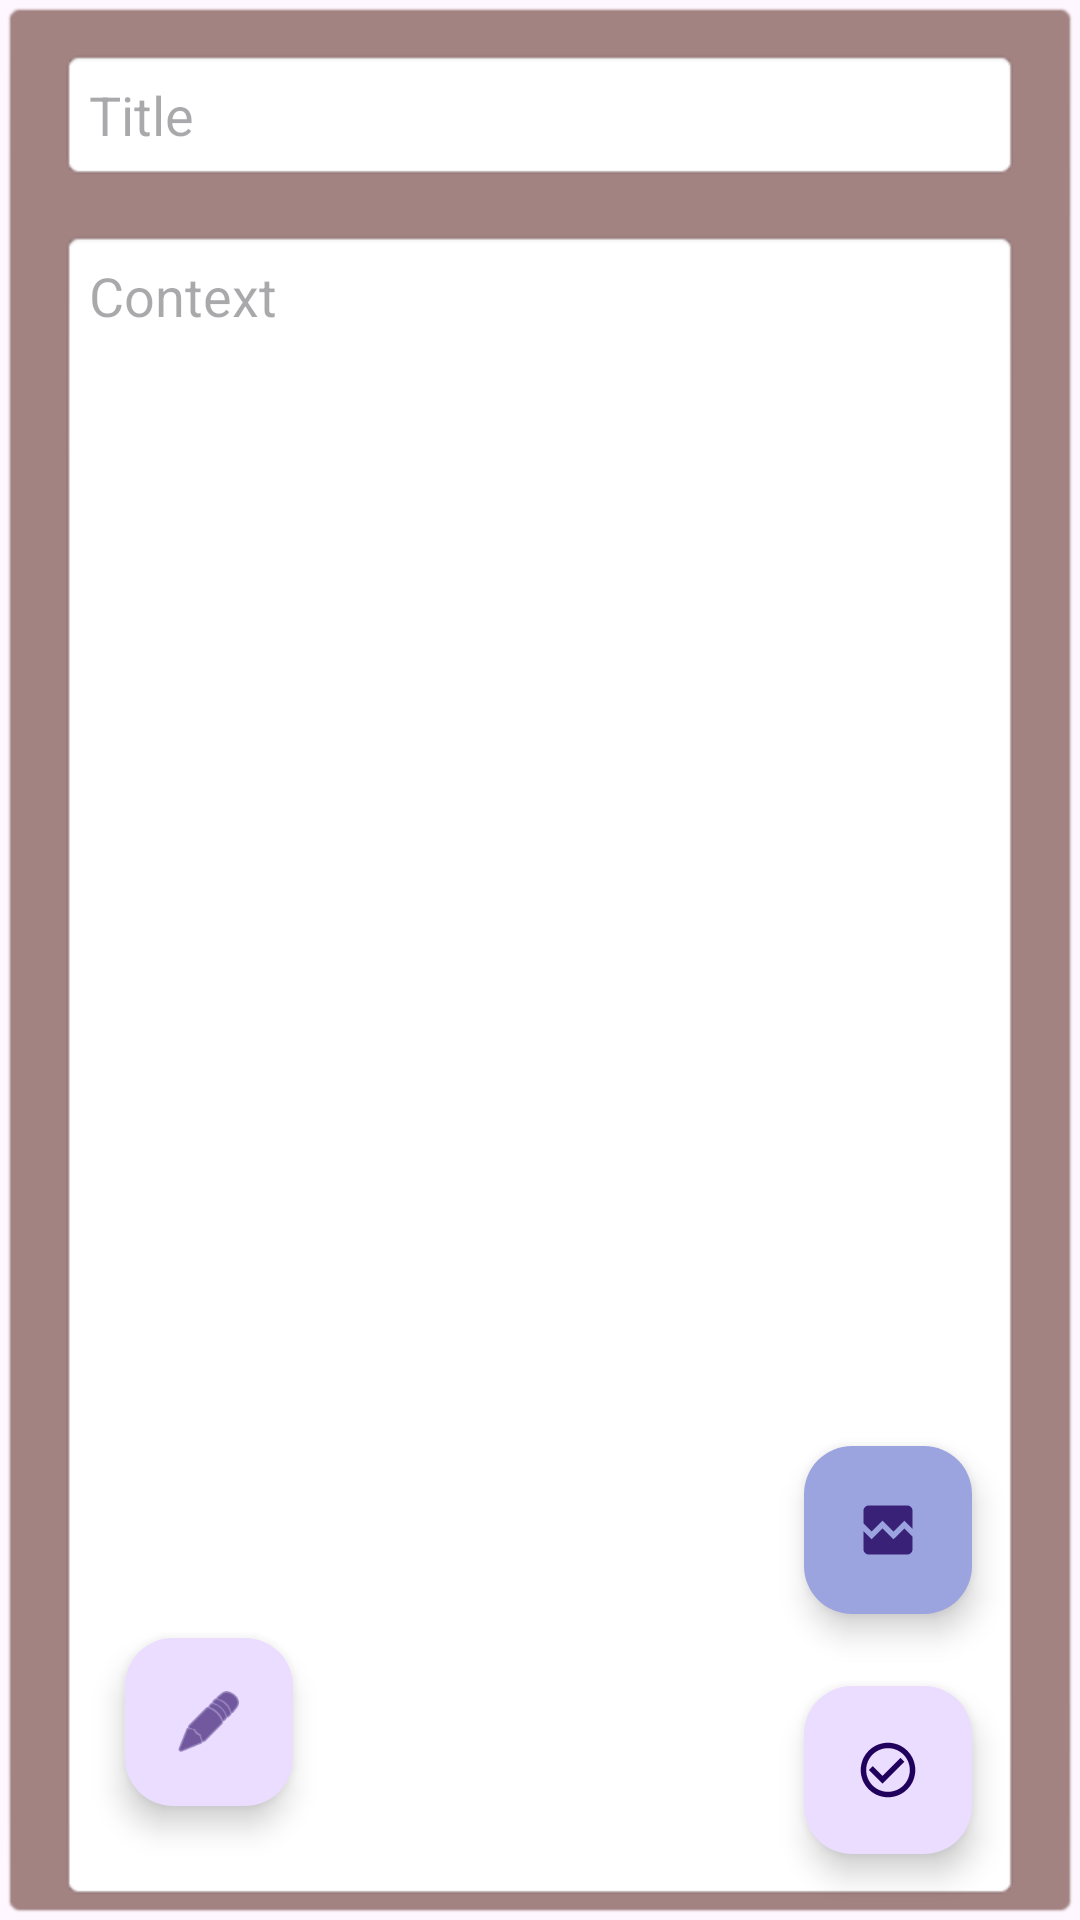

Named icons in this screenshot (1080 × 1920) and their bounding boxes, box(x1, y1, x2, y2):
edit: box(125, 1638, 293, 1806)
save urok: box(804, 1686, 972, 1854)
